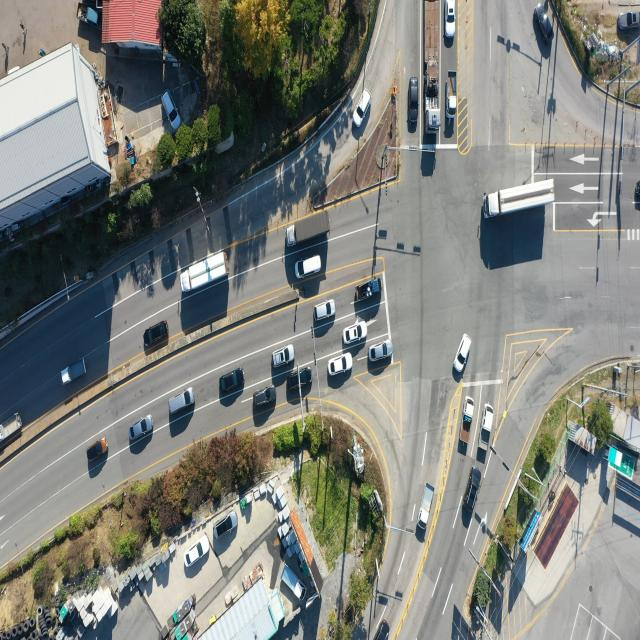car: (462, 465, 482, 514), (183, 536, 210, 571), (533, 0, 553, 46), (161, 94, 180, 134), (168, 387, 194, 416), (454, 333, 472, 373), (143, 322, 169, 349), (295, 255, 323, 280), (353, 90, 371, 128), (218, 370, 244, 394), (286, 369, 312, 393), (214, 511, 236, 539), (131, 416, 155, 441), (328, 352, 352, 376), (252, 385, 276, 408), (272, 345, 296, 368), (344, 323, 367, 346), (368, 341, 392, 363), (410, 79, 420, 131), (85, 437, 107, 460), (313, 300, 335, 322), (373, 618, 392, 640), (618, 10, 640, 28), (446, 0, 456, 37)
large_truck: (425, 0, 442, 129)
medium_truck: (485, 180, 556, 222), (180, 252, 229, 297), (285, 209, 332, 248)
small_truck: (458, 396, 475, 456), (280, 562, 305, 599), (418, 482, 434, 530), (480, 403, 495, 450), (60, 358, 86, 385), (354, 277, 380, 303), (77, 3, 100, 28), (446, 70, 456, 116)
